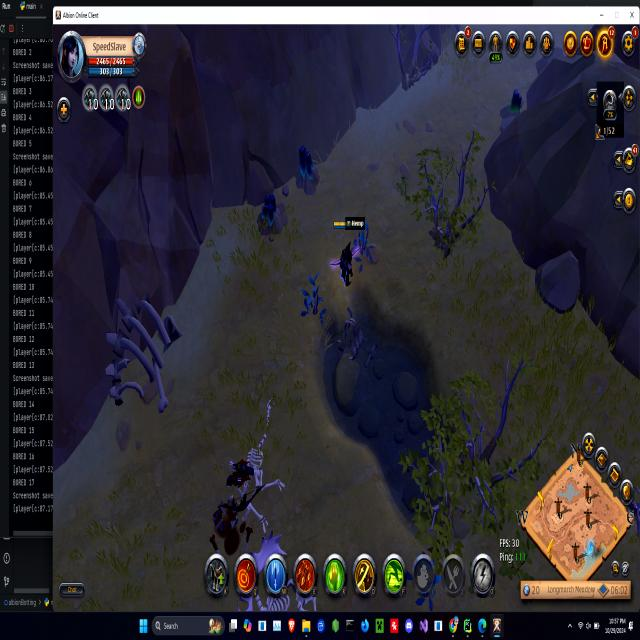ore: (220, 457, 264, 518)
player: (294, 144, 322, 196), (256, 194, 284, 239), (499, 86, 525, 129)
red: (331, 218, 360, 286)
